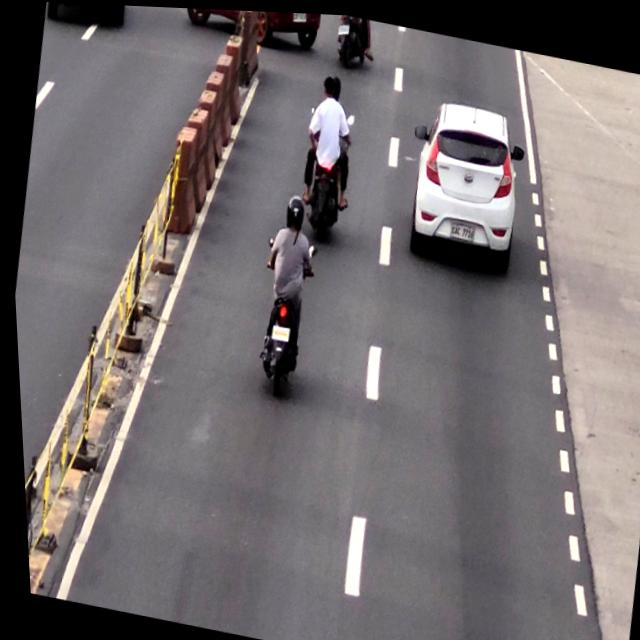License-Plate: (446, 216, 476, 241)
Motorcycle: (242, 187, 324, 393), (288, 66, 368, 234)
